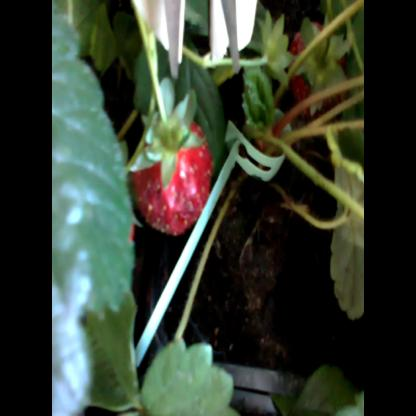ripe: (120, 112, 216, 244), (288, 19, 345, 122)
